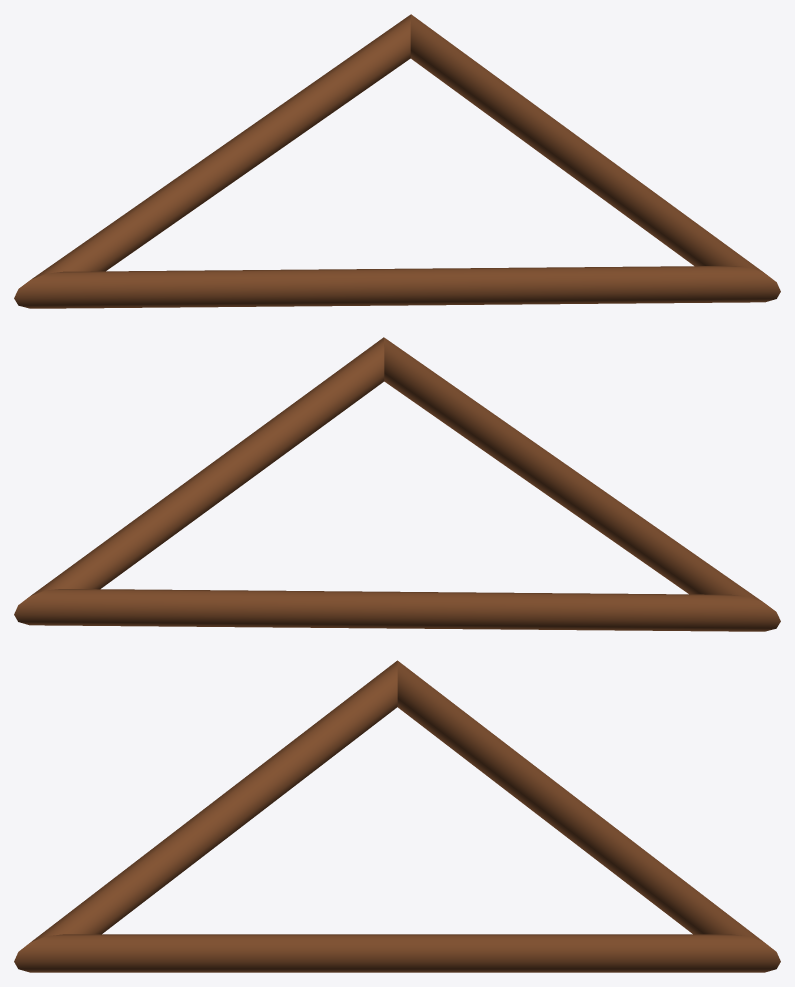
Rendered from triangle_rack.glb.
3 views of the same model, one above another, from view 1: azimuth 30°, elevation 25°; view 2: azimuth 150°, elevation 25°; view 3: azimuth 270°, elevation 25° (orthographic). The views are drawn at different scales.
Parts seen in each view (by area): view 1: Rack | wooden side.002, Rack | wooden side, Rack | wooden side.001; view 2: Rack | wooden side, Rack | wooden side.002, Rack | wooden side.001; view 3: Rack | wooden side.001, Rack | wooden side.002, Rack | wooden side.
Boxes of the visible parts, x1=… form: Rack | wooden side.002: x1=14, y1=266, x2=780, y2=308; Rack | wooden side: x1=31, y1=14, x2=410, y2=279; Rack | wooden side.001: x1=410, y1=14, x2=763, y2=272; Rack | wooden side: x1=14, y1=589, x2=780, y2=631; Rack | wooden side.002: x1=384, y1=337, x2=763, y2=602; Rack | wooden side.001: x1=31, y1=337, x2=384, y2=595; Rack | wooden side.001: x1=14, y1=934, x2=780, y2=972; Rack | wooden side.002: x1=31, y1=660, x2=397, y2=941; Rack | wooden side: x1=397, y1=661, x2=763, y2=941.
Bounding box in the file's own units: 0.3277 × 0.018 × 0.3604.
